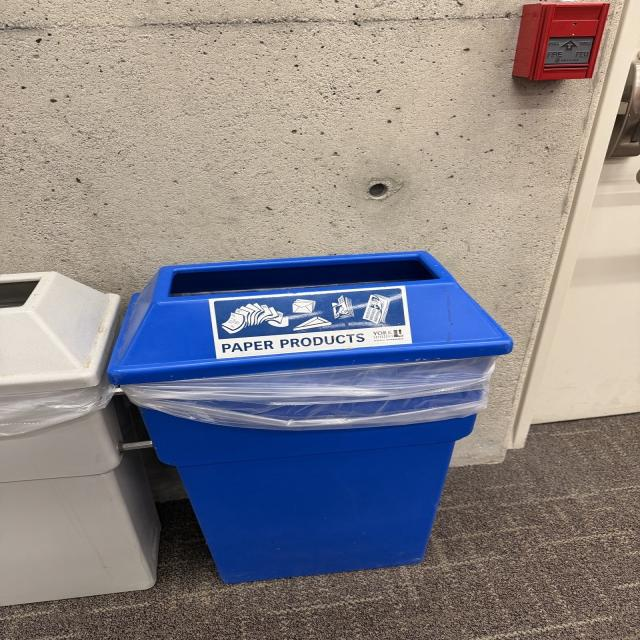Dustbin: (2, 251, 515, 606)
